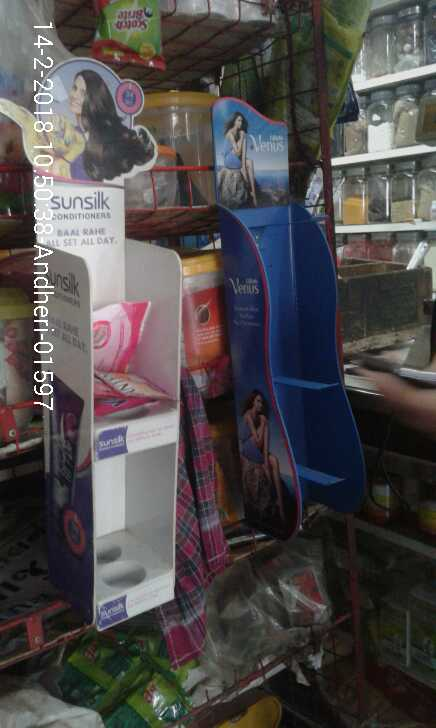reject: (231, 214, 337, 471)
